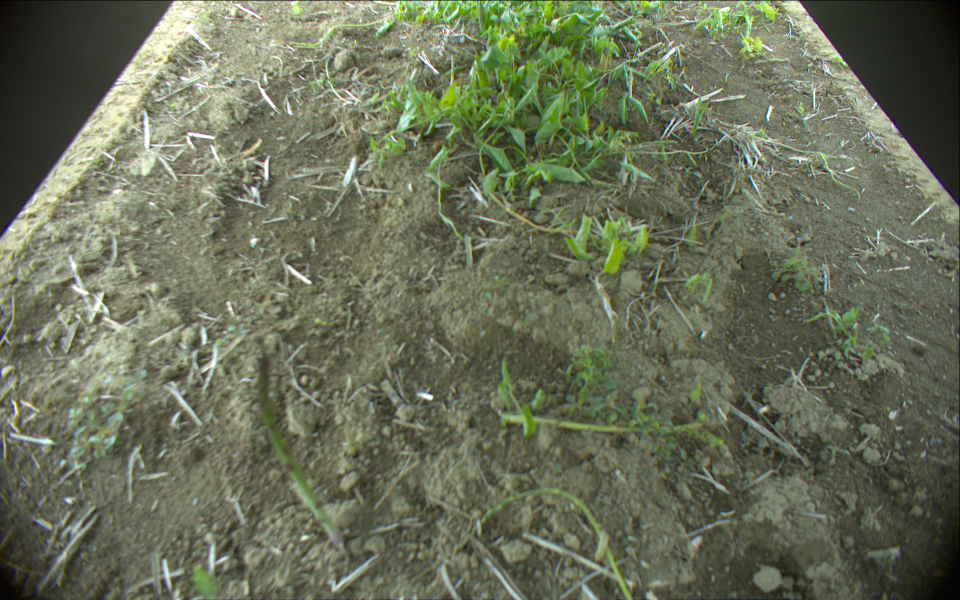aspa: (458, 488, 633, 600), (256, 351, 344, 545), (503, 412, 703, 434)
